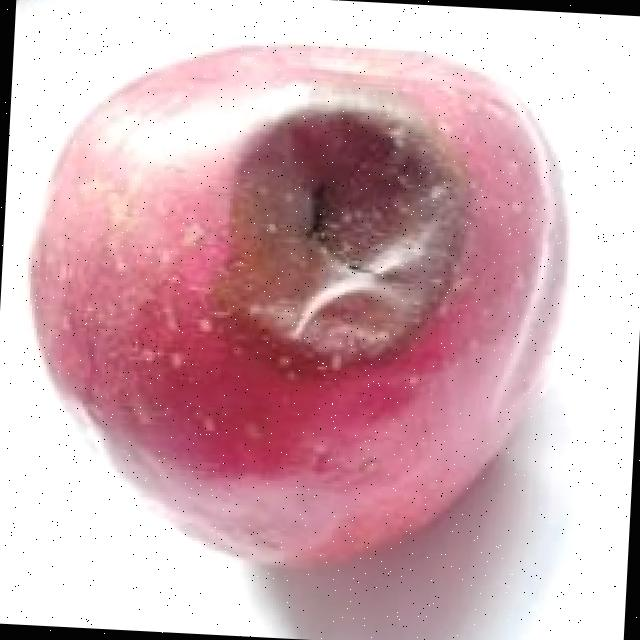rotten apple: (0, 7, 611, 640)
